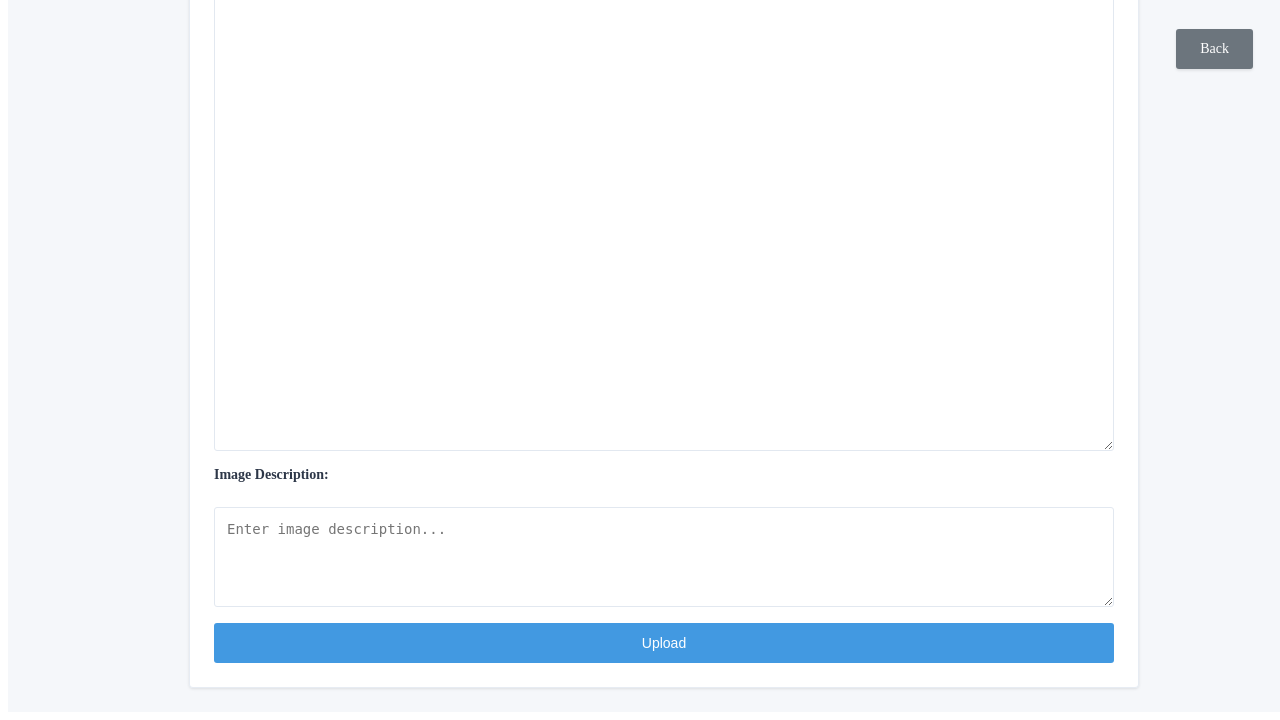
Test case: UploadZPLPage › handles network error gracefully
This screenshot has width=1280, height=720.
(page scrolled)
Click the button "Upload". click: (664, 643)
box: [214,623,1114,663]
(page scrolled)
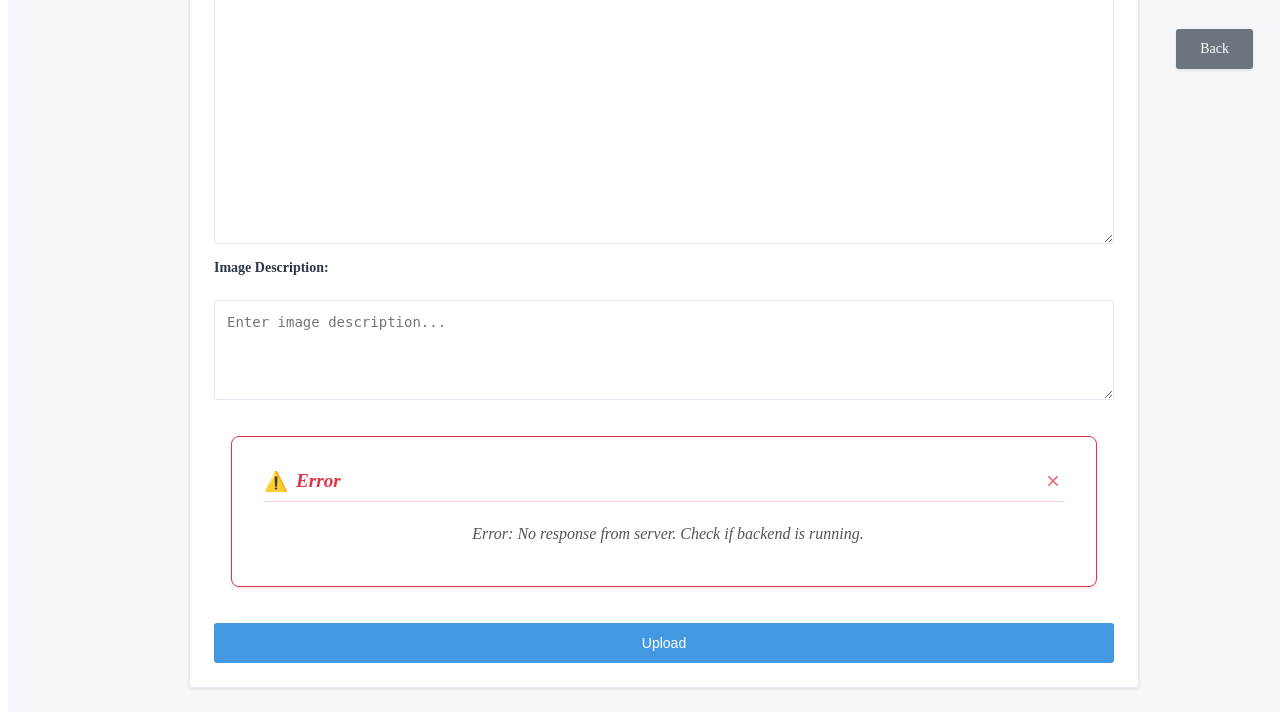
Expected: the text "Error: No response from server. Check if backend is running." is shown, [472,525,864,542]
